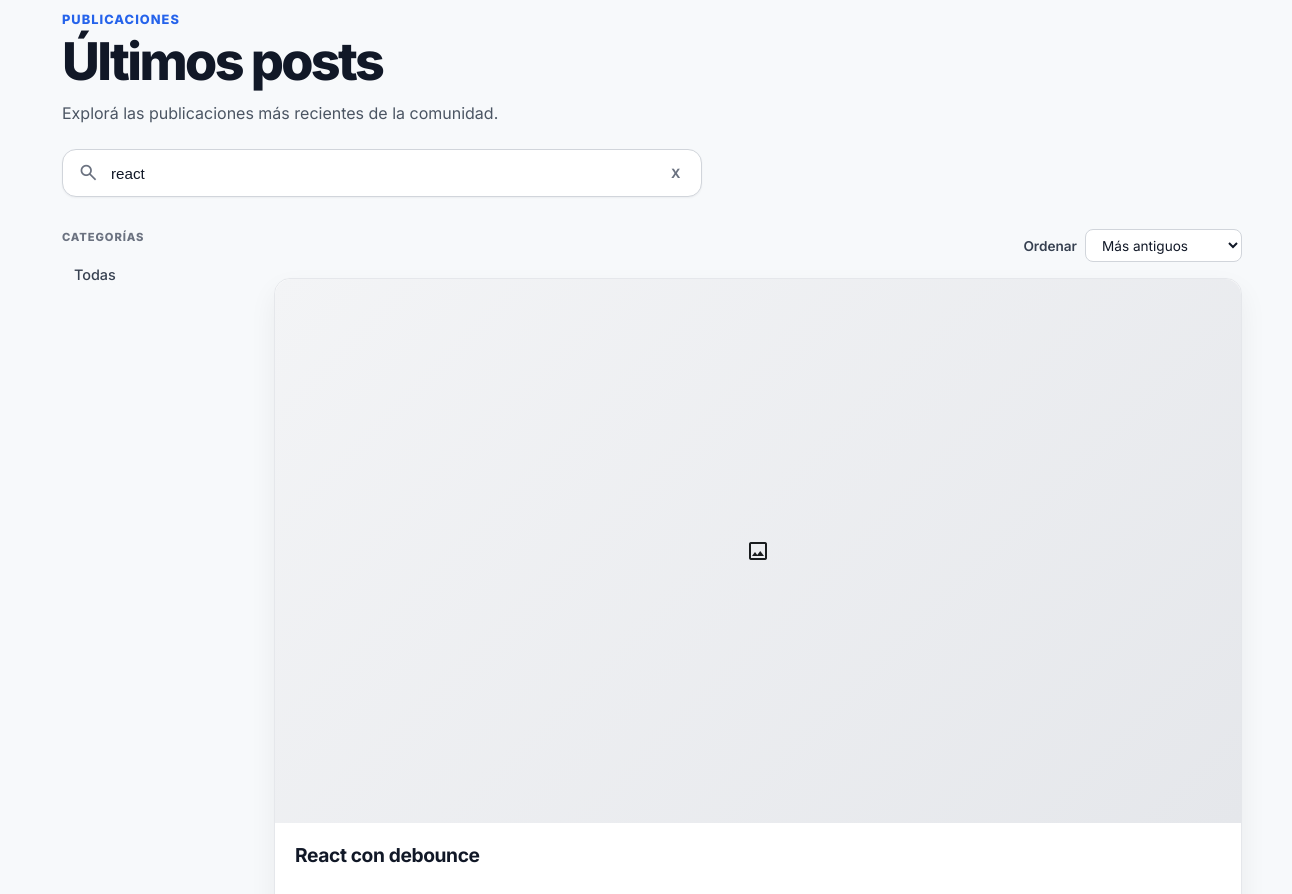
Test: HomePage search › limpia la búsqueda inmediatamente y conserva los demás filtros
This screenshot has width=1292, height=894.
Click the button named "Limpiar búsqueda".
click(676, 173)  # box x1=660 y1=157 x2=692 y2=189
(page scrolled)
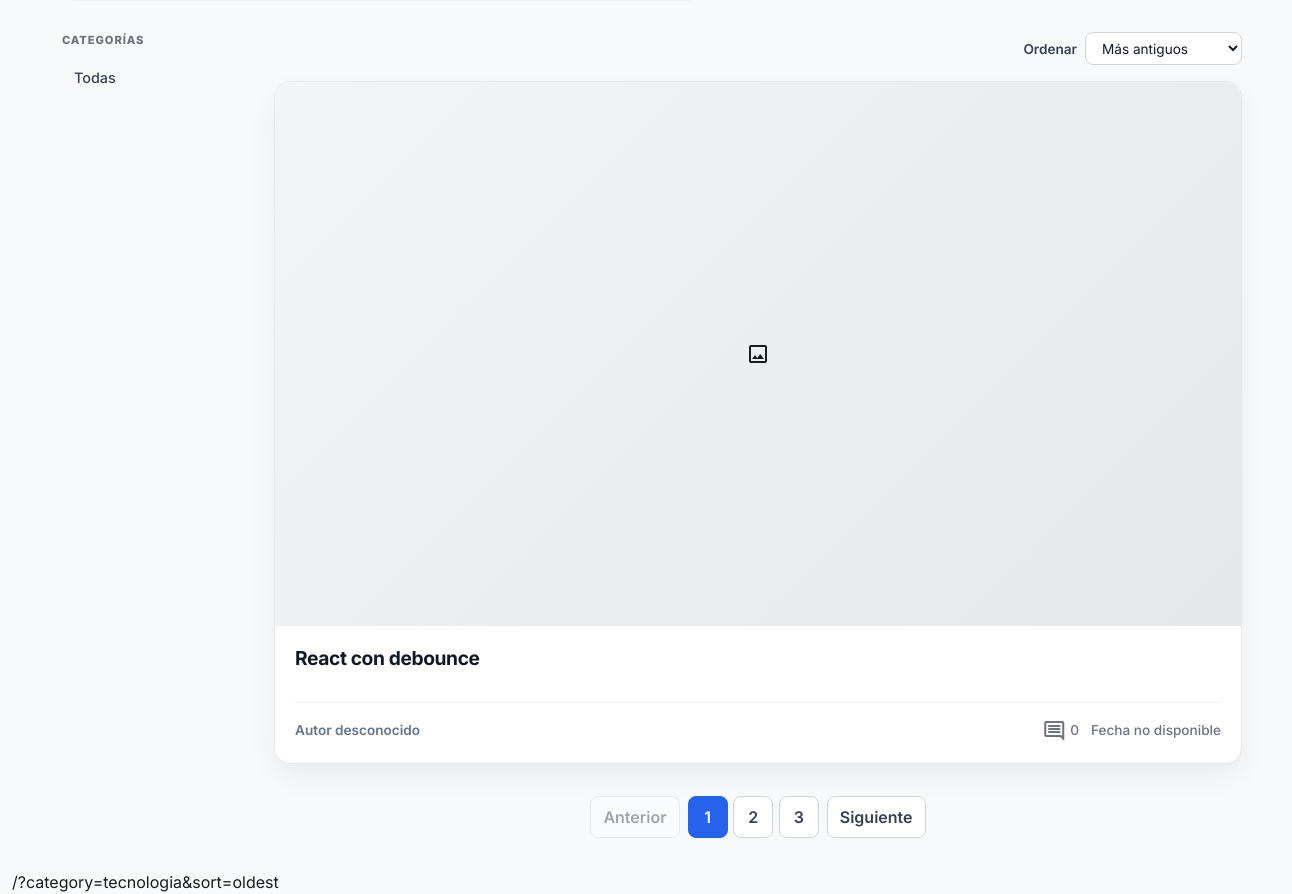
Expected: the text named "URL actual" reads "/?category=tecnologia&sort=oldest", x1=12 y1=872 x2=279 y2=892
